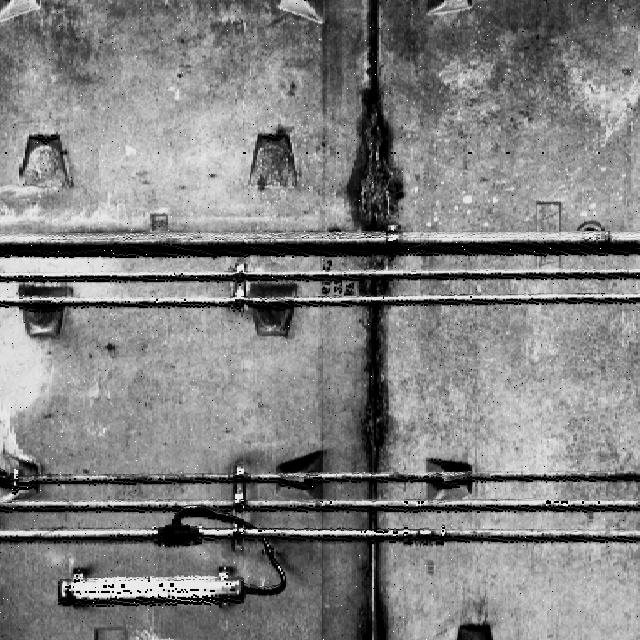leakage: (336, 299, 403, 639), (332, 12, 412, 233)
